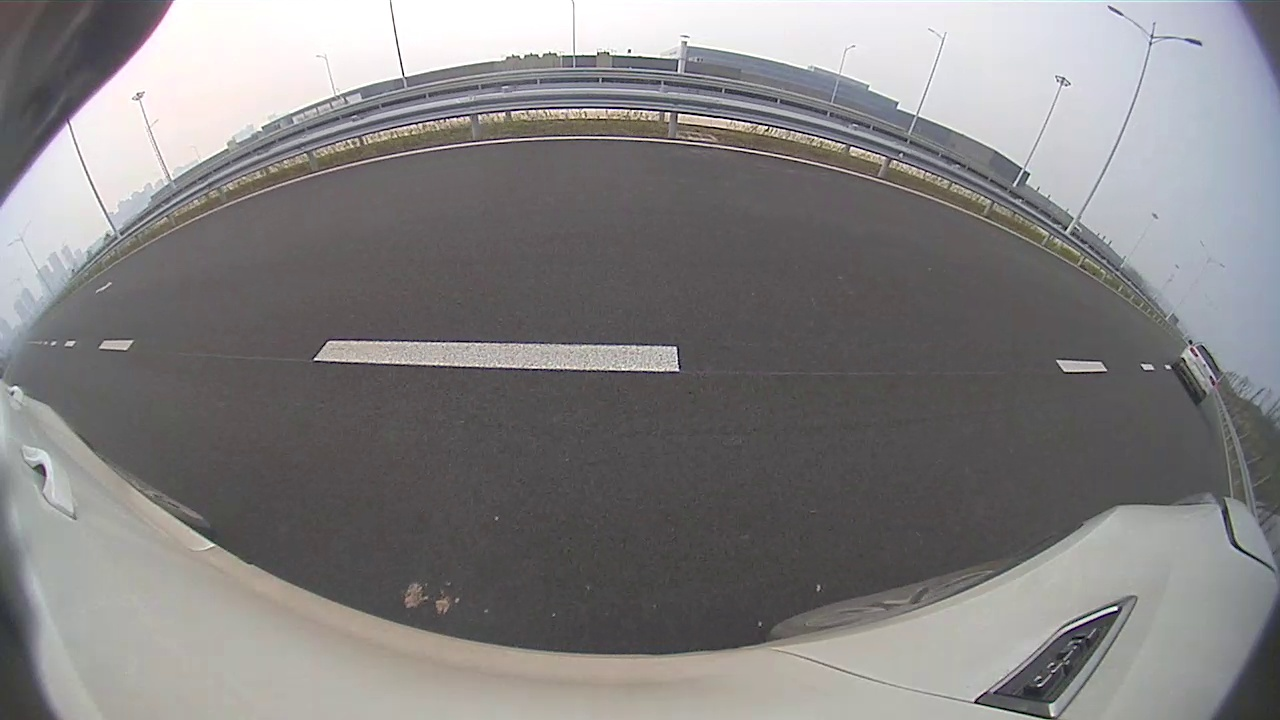car: (1171, 339, 1226, 406)
